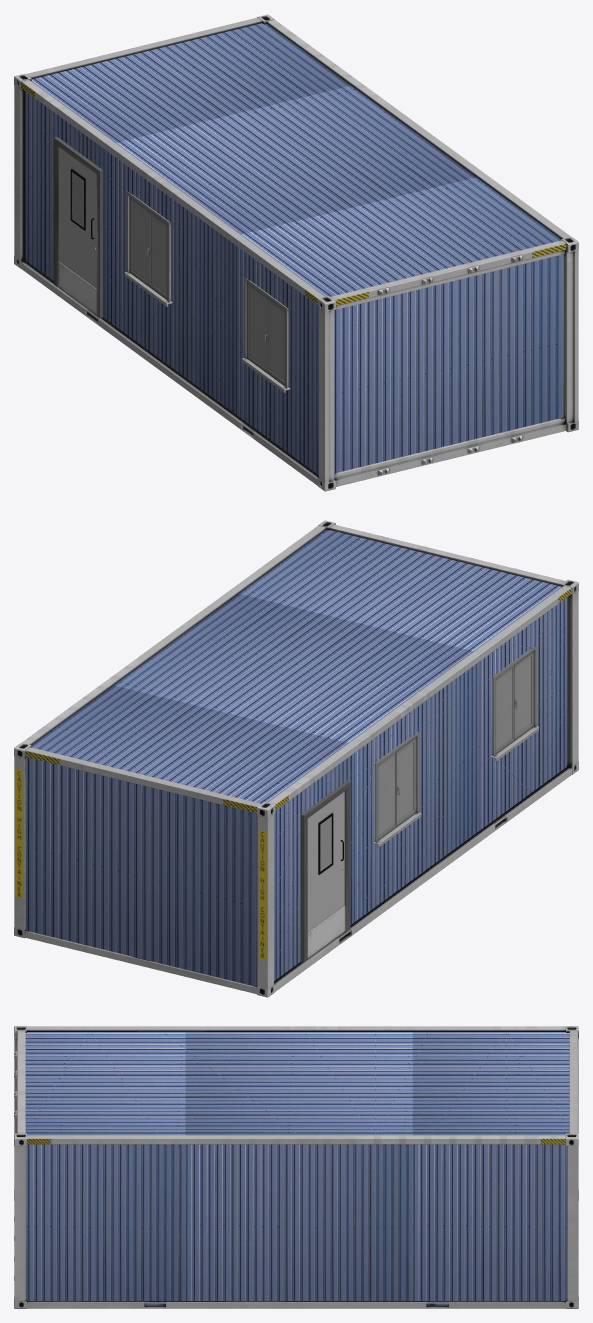
Rendered from Safety Container.fbx.
3 views of the same model, one above another, from view 1: azimuth 30°, elevation 25°; view 2: azimuth 150°, elevation 25°; view 3: azimuth 270°, elevation 25° (orthographic). The views are drawn at different scales.
Visible parts, largest first — view 1: Object001, defaultMaterial; view 2: Object001, defaultMaterial; view 3: Object001.
Part boxes in pixels (left/top/right/bottom): Object001: left=14, top=14, right=578, bottom=491; defaultMaterial: left=59, top=148, right=96, bottom=314; Object001: left=14, top=520, right=578, bottom=997; defaultMaterial: left=307, top=792, right=345, bottom=958; Object001: left=14, top=1026, right=578, bottom=1308.
Size of the model in its own units: 389 by 275 by 823.
